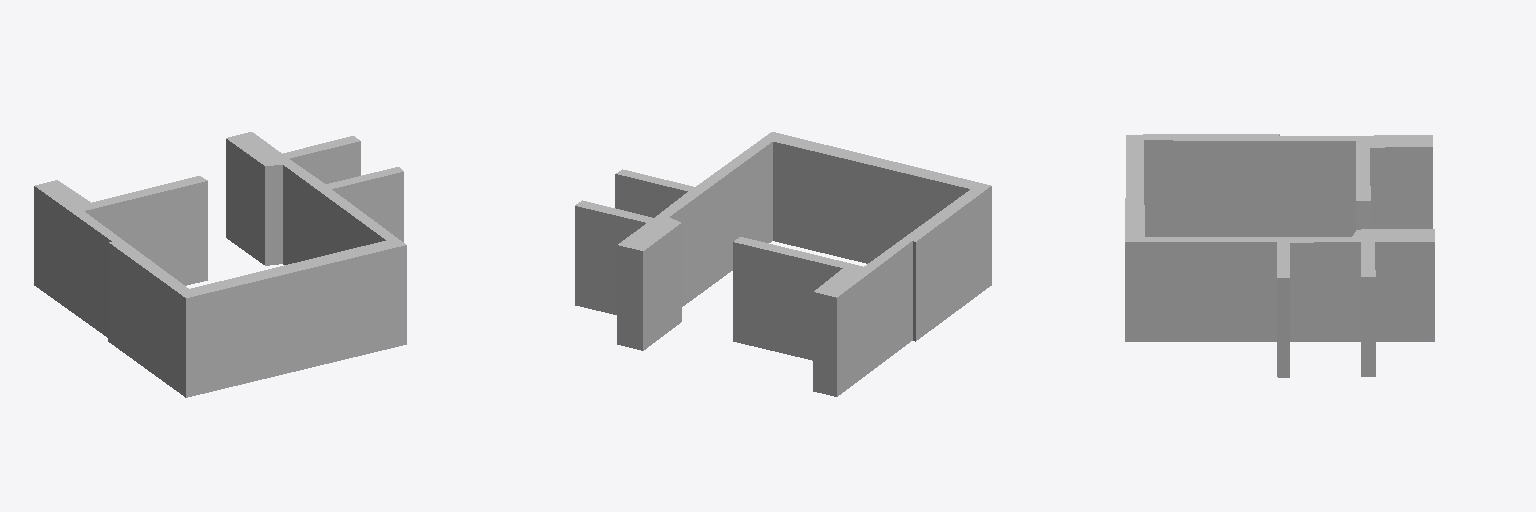
Rendered from bright_122.obj.
3 renders of one model, left to right at view 1: azimuth 30°, elevation 25°; view 2: azimuth 150°, elevation 25°; view 3: azimuth 270°, elevation 25°, orthographic.
Visible parts, largest first — view 1: polySurface8; view 2: polySurface8; view 3: polySurface8.
Boxes of the visible parts, <box> form: polySurface8: <box>34,132,406,397</box>; polySurface8: <box>575,132,991,396</box>; polySurface8: <box>1125,134,1434,377</box>.
Size of the model in its own units: 59.38 by 19.14 by 53.98.